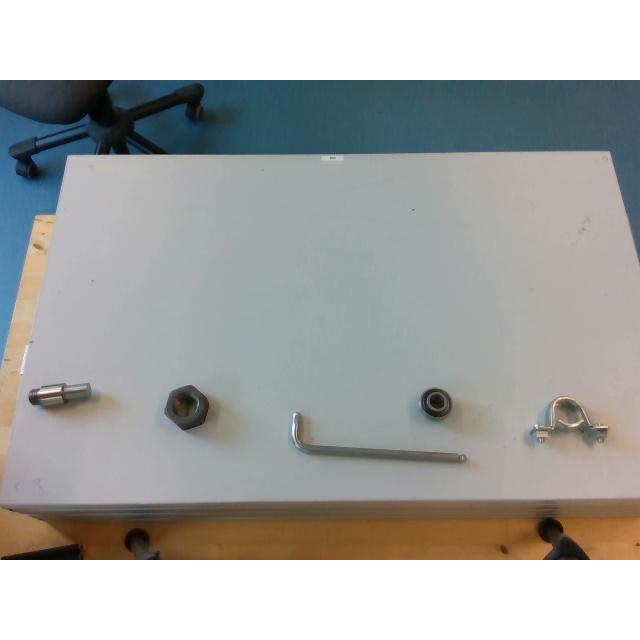AllenKey: (289, 412, 467, 462)
Axis2: (28, 382, 92, 406)
Bearing2: (421, 388, 452, 418)
Housing: (531, 396, 607, 439)
M30: (164, 385, 208, 429)
